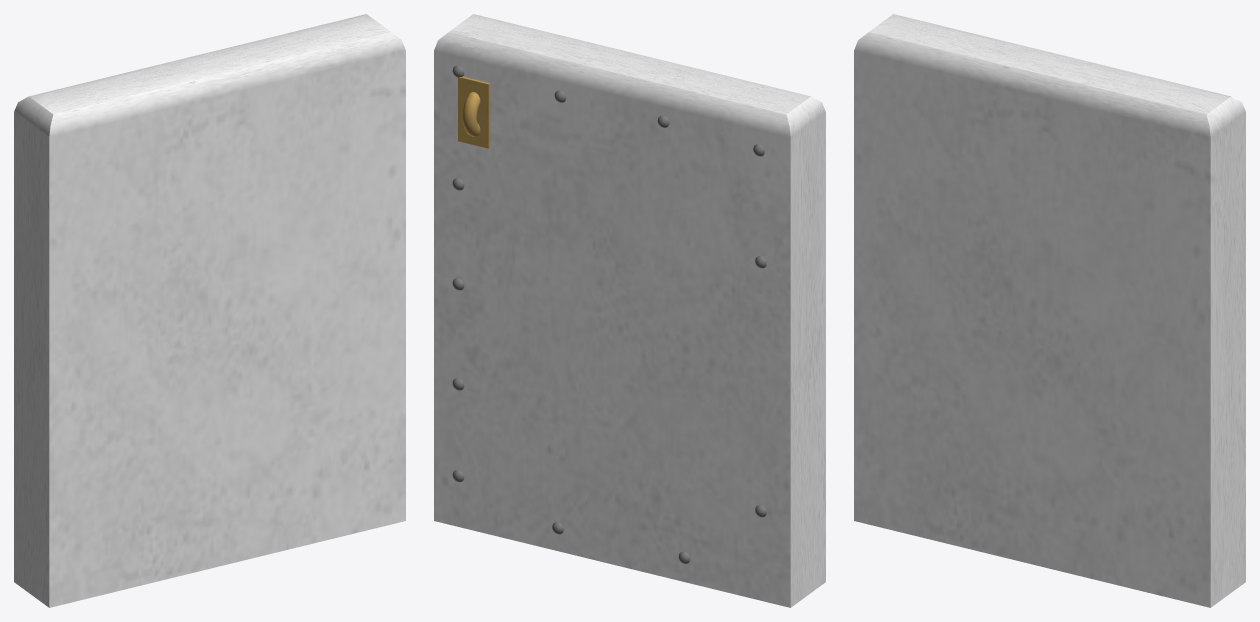
The model's file is refri_puerta_abajo.obj.
3 renders of one model, left to right at view 1: azimuth 30°, elevation 25°; view 2: azimuth 150°, elevation 25°; view 3: azimuth 330°, elevation 25°, orthographic.
Parts seen in each view (by area): view 1: polySurface1; view 2: polySurface1; view 3: polySurface1.
Part boxes in pixels (x1,y1,x2,y2): polySurface1: (14,14,405,607); polySurface1: (434,14,825,607); polySurface1: (854,14,1245,607).
Size of the model in its own units: 2.9 by 3.81 by 0.6265.
Materials: 3 (2 with a texture image).
